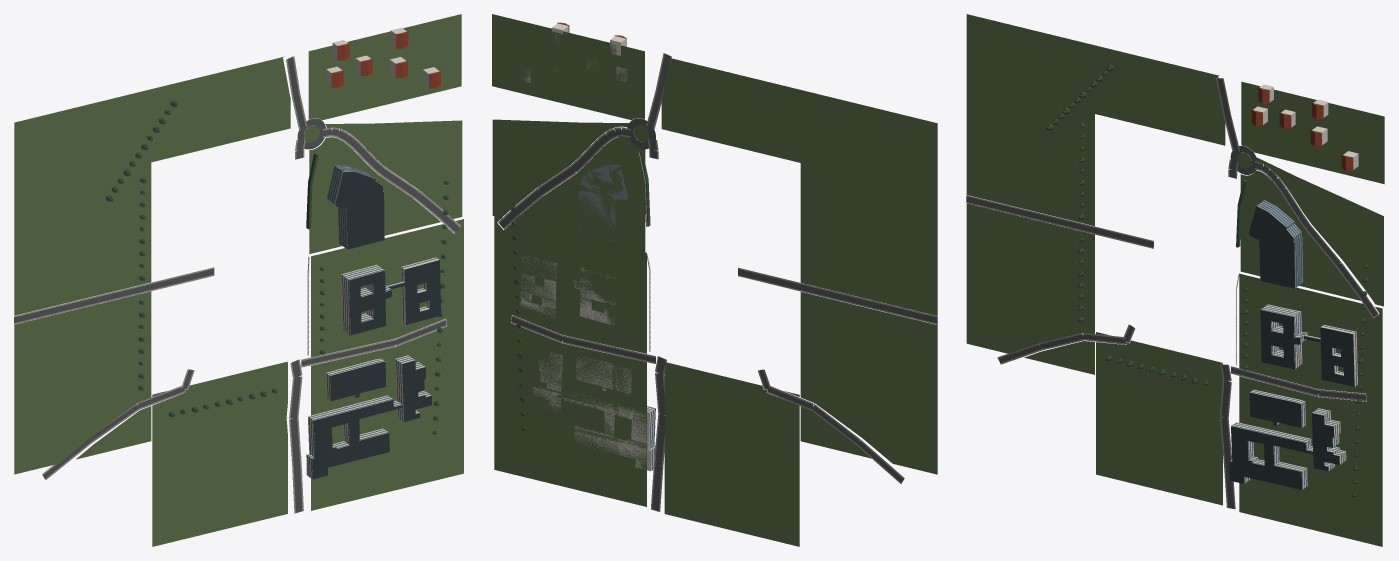
Rendered from povo_edges.obj.
3 views of the same model, side by side, from view 1: azimuth 30°, elevation 25°; view 2: azimuth 150°, elevation 25°; view 3: azimuth 330°, elevation 25° (orthographic). The views are drawn at different scales.
Visible parts, largest first — view 1: backdrop_exterior_edges_west_meadow_11_1563, backdrop_exterior_edges_west_meadow_3_1524, backdrop_exterior_edges_south_garden_2_1556, backdrop_exterior_edges_west_meadow_2_1567, backdrop_exterior_edges_west_meadow_20_1566, backdrop_exterior_edges_east_fbk_south_grounds_4_687, backdrop_exterior_edges_east_fbk_south_grounds_12_1559, backdrop_exterior_edges_village_grounds_14_1553, backdrop_exterior_edges_south_garden_11_1490, backdrop_exterior_edges_west_meadow_12_1557, backdrop_exterior_edges_village_grounds_0_1565, backdrop_exterior_edges_south_garden_13_1562 (+32 smaller); view 2: backdrop_exterior_edges_west_meadow_11_1563, backdrop_exterior_edges_west_meadow_3_1524, backdrop_exterior_edges_south_garden_2_1556, backdrop_exterior_edges_east_fbk_south_grounds_4_687, backdrop_exterior_edges_east_fbk_south_grounds_12_1559, backdrop_exterior_edges_west_meadow_2_1567, backdrop_exterior_edges_village_grounds_14_1553, backdrop_exterior_edges_west_meadow_20_1566, backdrop_exterior_edges_east_fbk_south_grounds_3_1538, backdrop_exterior_edges_village_grounds_0_1565, backdrop_exterior_edges_south_garden_11_1490, backdrop_exterior_edges_east_fbk_south_grounds_10_1564 (+32 smaller); view 3: backdrop_exterior_edges_west_meadow_11_1563, backdrop_exterior_edges_west_meadow_3_1524, backdrop_exterior_edges_south_garden_2_1556, backdrop_exterior_edges_west_meadow_2_1567, backdrop_exterior_edges_west_meadow_20_1566, backdrop_exterior_edges_east_fbk_south_grounds_4_687, backdrop_exterior_edges_east_fbk_south_grounds_12_1559, backdrop_exterior_edges_village_grounds_14_1553, backdrop_exterior_edges_south_garden_11_1490, backdrop_exterior_edges_west_meadow_12_1557, backdrop_exterior_edges_village_grounds_0_1565, backdrop_exterior_edges_north_gardens_0_1493 (+31 smaller).
Boxes of the visible parts, x1=… form: backdrop_exterior_edges_west_meadow_11_1563: x1=14, y1=122, x2=151, y2=297; backdrop_exterior_edges_west_meadow_3_1524: x1=14, y1=306, x2=134, y2=450; backdrop_exterior_edges_south_garden_2_1556: x1=152, y1=411, x2=278, y2=546; backdrop_exterior_edges_west_meadow_2_1567: x1=14, y1=160, x2=83, y2=315; backdrop_exterior_edges_west_meadow_20_1566: x1=15, y1=88, x2=156, y2=160; backdrop_exterior_edges_east_fbk_south_grounds_4_687: x1=343, y1=351, x2=415, y2=502; backdrop_exterior_edges_east_fbk_south_grounds_12_1559: x1=396, y1=331, x2=463, y2=473; backdrop_exterior_edges_village_grounds_14_1553: x1=321, y1=14, x2=461, y2=86; backdrop_exterior_edges_south_garden_11_1490: x1=187, y1=376, x2=287, y2=443; backdrop_exterior_edges_west_meadow_12_1557: x1=93, y1=291, x2=151, y2=402; backdrop_exterior_edges_village_grounds_0_1565: x1=321, y1=54, x2=460, y2=119; backdrop_exterior_edges_south_garden_13_1562: x1=208, y1=418, x2=286, y2=505; backdrop_exterior_edges_west_meadow_11_1563: x1=800, y1=123, x2=937, y2=297; backdrop_exterior_edges_west_meadow_3_1524: x1=817, y1=307, x2=937, y2=450; backdrop_exterior_edges_south_garden_2_1556: x1=673, y1=411, x2=799, y2=546; backdrop_exterior_edges_east_fbk_south_grounds_4_687: x1=542, y1=347, x2=614, y2=498; backdrop_exterior_edges_east_fbk_south_grounds_12_1559: x1=494, y1=328, x2=561, y2=468; backdrop_exterior_edges_west_meadow_2_1567: x1=868, y1=161, x2=937, y2=315; backdrop_exterior_edges_village_grounds_14_1553: x1=492, y1=14, x2=632, y2=85; backdrop_exterior_edges_west_meadow_20_1566: x1=795, y1=88, x2=936, y2=161; backdrop_exterior_edges_east_fbk_south_grounds_3_1538: x1=612, y1=354, x2=646, y2=506; backdrop_exterior_edges_village_grounds_0_1565: x1=492, y1=54, x2=631, y2=119; backdrop_exterior_edges_south_garden_11_1490: x1=664, y1=376, x2=764, y2=443; backdrop_exterior_edges_east_fbk_south_grounds_10_1564: x1=529, y1=224, x2=646, y2=313; backdrop_exterior_edges_west_meadow_11_1563: x1=967, y1=14, x2=1094, y2=226; backdrop_exterior_edges_west_meadow_3_1524: x1=966, y1=203, x2=1079, y2=332; backdrop_exterior_edges_south_garden_2_1556: x1=1096, y1=355, x2=1214, y2=502; backdrop_exterior_edges_west_meadow_2_1567: x1=966, y1=49, x2=1031, y2=210; backdrop_exterior_edges_west_meadow_20_1566: x1=967, y1=14, x2=1100, y2=114; backdrop_exterior_edges_east_fbk_south_grounds_4_687: x1=1269, y1=385, x2=1337, y2=535; backdrop_exterior_edges_east_fbk_south_grounds_12_1559: x1=1319, y1=397, x2=1382, y2=546; backdrop_exterior_edges_village_grounds_14_1553: x1=1253, y1=84, x2=1384, y2=183; backdrop_exterior_edges_south_garden_11_1490: x1=1128, y1=357, x2=1222, y2=414; backdrop_exterior_edges_west_meadow_12_1557: x1=1040, y1=221, x2=1094, y2=333; backdrop_exterior_edges_village_grounds_0_1565: x1=1253, y1=91, x2=1383, y2=183; backdrop_exterior_edges_north_gardens_0_1493: x1=1100, y1=47, x2=1185, y2=115.
Bounding box in the file's own units: 485 × 479 × 25.15.
